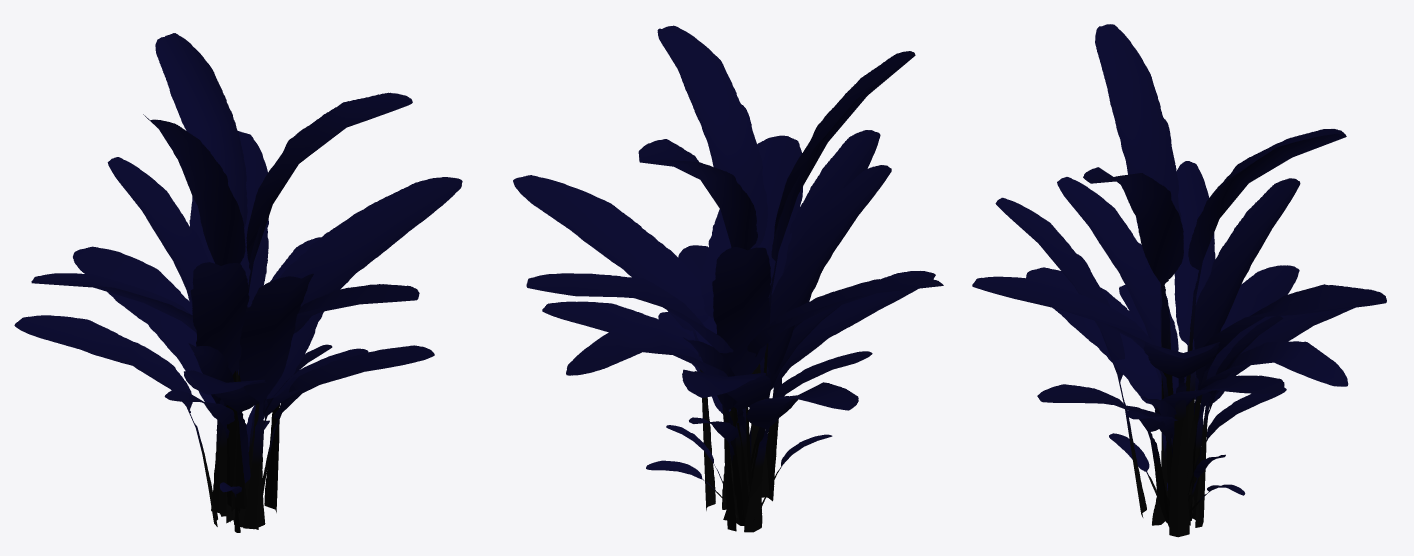
File: SM_Foliage_PalmPlantA_03.fbx
The picture shows the model from 3 angles, left to right: view 1: azimuth 30°, elevation 25°; view 2: azimuth 150°, elevation 25°; view 3: azimuth 270°, elevation 25°; orthographic projection. The views are drawn at different scales.
Visible parts, largest first — view 1: SM_Foliage_PalmPlantA_03; view 2: SM_Foliage_PalmPlantA_03; view 3: SM_Foliage_PalmPlantA_03.
Boxes of the visible parts, x1,y1,x2,y2 form: SM_Foliage_PalmPlantA_03: (14,33,462,532); SM_Foliage_PalmPlantA_03: (513,25,943,532); SM_Foliage_PalmPlantA_03: (972,24,1386,537).
Size of the model in its own units: 458 by 418 by 492.
